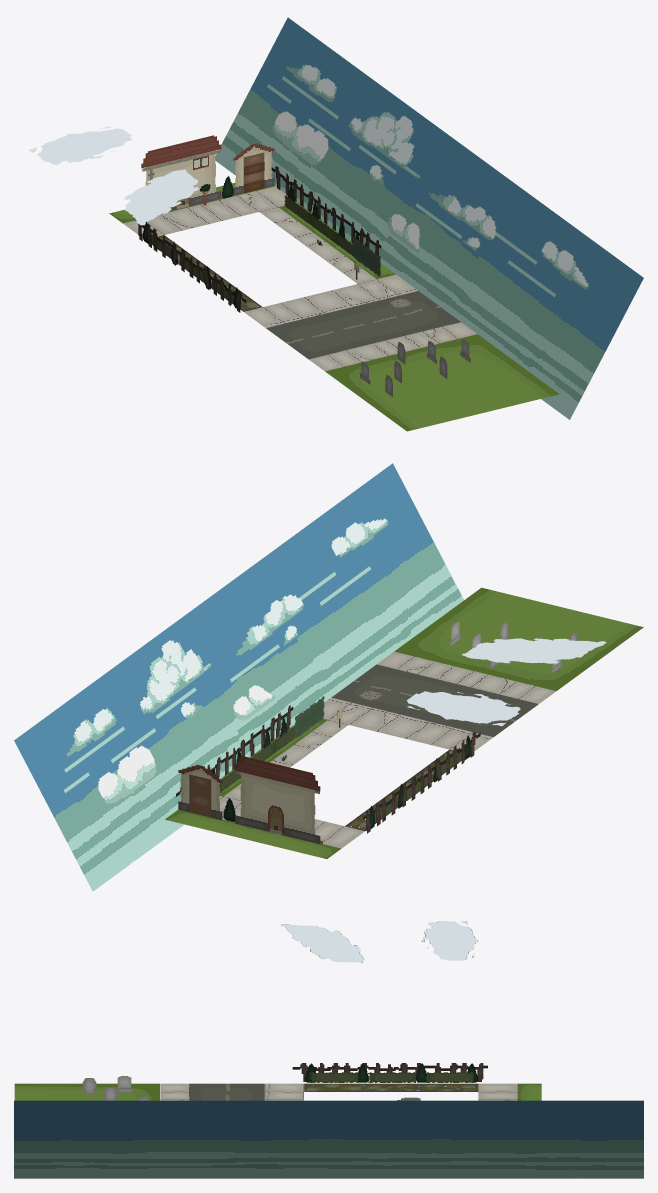
Rendered from frontlawn.gltf.
3 renders of one model, top to bottom at view 1: azimuth 30°, elevation 25°; view 2: azimuth 150°, elevation 25°; view 3: azimuth 270°, elevation 25°, orthographic. The views are drawn at different scales.
Visible parts, largest first — view 1: skybg, grass, sidewalk, road, sky, house, fence (×2), sidewalk2, sky4, cloud2, cloud, garage (+2 smaller); view 2: skybg, grass, sidewalk, sky, house, road, sidewalk2, sky4, fence (×2), cloud2, cloud, garage (+2 smaller); view 3: skybg, sidewalk, grass, cloud2, cloud, road, fence, sidewalk2, bush5, bush4, bush3.
Part boxes in pixels (left/top/right/bottom): skybg: left=215, top=17, right=643, bottom=419; grass: left=109, top=183, right=559, bottom=431; sidewalk: left=123, top=186, right=417, bottom=327; road: left=266, top=291, right=460, bottom=359; sky: left=286, top=64, right=588, bottom=289; house: left=141, top=135, right=221, bottom=210; fence (×2): left=135, top=166, right=381, bottom=312; sidewalk2: left=309, top=322, right=476, bottom=371; sky4: left=272, top=111, right=419, bottom=252; cloud2: left=123, top=169, right=199, bottom=225; cloud: left=29, top=126, right=131, bottom=164; garage: left=233, top=143, right=274, bottom=195; skybg: left=14, top=463, right=463, bottom=891; grass: left=165, top=587, right=643, bottom=858; sidewalk: left=219, top=697, right=493, bottom=848; sky: left=66, top=518, right=388, bottom=756; house: left=235, top=756, right=320, bottom=843; road: left=331, top=664, right=538, bottom=737; sidewalk2: left=377, top=651, right=555, bottom=703; sky4: left=98, top=685, right=275, bottom=803; fence (×2): left=176, top=705, right=480, bottom=833; cloud2: left=462, top=638, right=606, bottom=663; cloud: left=406, top=691, right=520, bottom=726; garage: left=178, top=764, right=222, bottom=820; skybg: left=14, top=1100, right=643, bottom=1178; sidewalk: left=264, top=1083, right=517, bottom=1100; grass: left=14, top=1083, right=541, bottom=1100; cloud2: left=280, top=924, right=364, bottom=962; cloud: left=421, top=920, right=478, bottom=960; road: left=189, top=1083, right=264, bottom=1100; fence: left=292, top=1063, right=487, bottom=1081; sidewalk2: left=160, top=1083, right=189, bottom=1100; bush5: left=310, top=1072, right=358, bottom=1082; bush4: left=425, top=1072, right=473, bottom=1082; bush3: left=368, top=1072, right=415, bottom=1082.
Size of the model in its own units: 15.19 by 6.12 by 26.
Materials: 28 (28 with a texture image).
